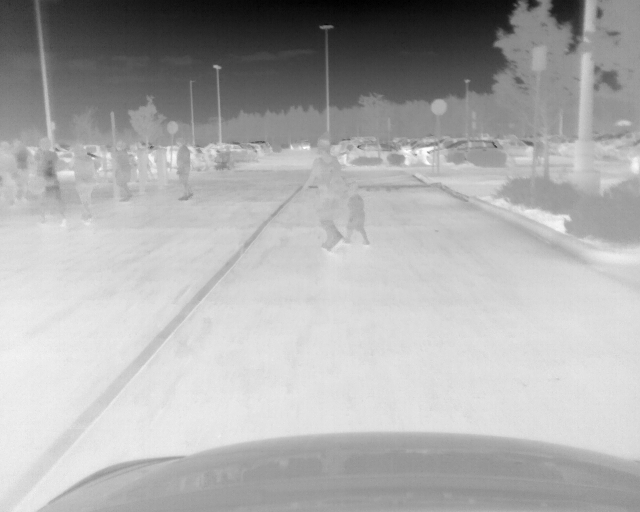car: (427, 141, 502, 166), (346, 144, 415, 166), (144, 145, 202, 170), (508, 142, 533, 155), (224, 144, 246, 152), (291, 141, 309, 150), (253, 143, 263, 158)
people: (302, 138, 343, 252), (31, 140, 65, 227), (70, 147, 95, 224), (344, 184, 369, 246), (12, 137, 30, 207), (111, 146, 133, 202), (175, 137, 193, 200), (1, 142, 15, 209), (535, 138, 546, 166)
